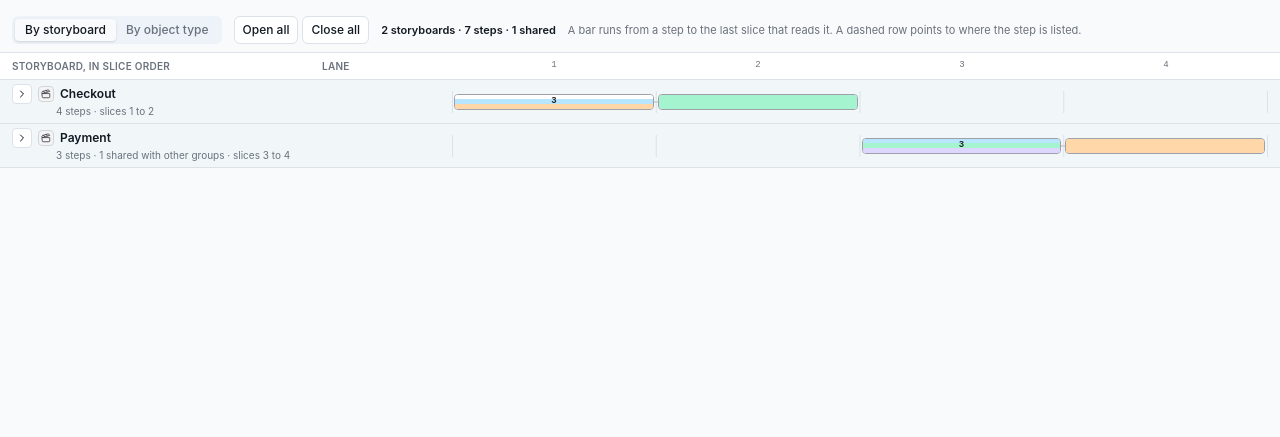
Scenario: WaterfallBoard › groups by lane and kind and draws cables between the groups
Click the button "By object type": x=167, y=30 [116,19,218,41]
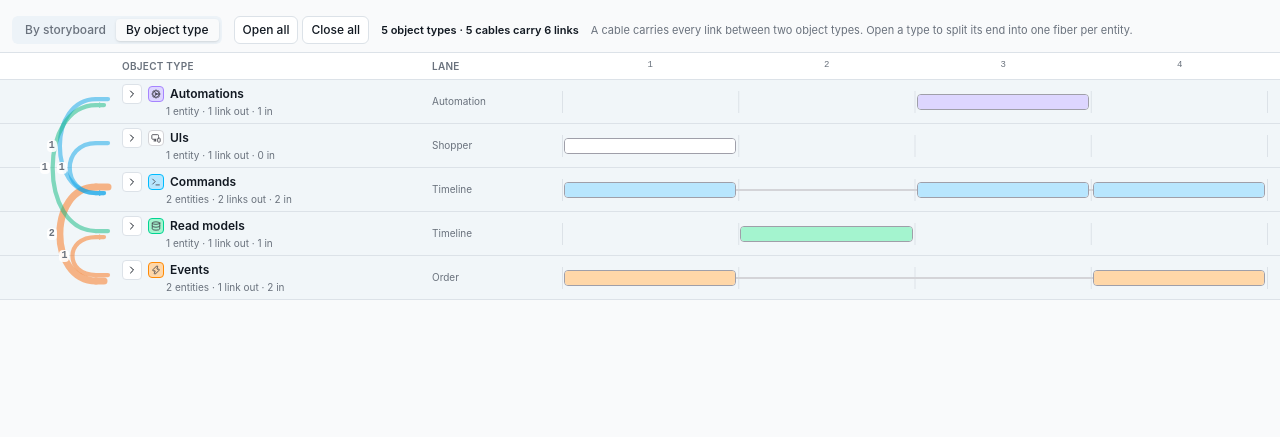
Result: the button "Commands" is shown at [170,173,236,191]
Result: the button "Read models" is shown at [170,217,245,235]
Result: the button named "2 links from Commands (Timeline) to Events (Order)" reads "2"
# A cable's count opens both of its ends.
Click the button named "2 links from Commands (Timeline) to Events (Order)": x=52, y=234 [47,228,57,240]
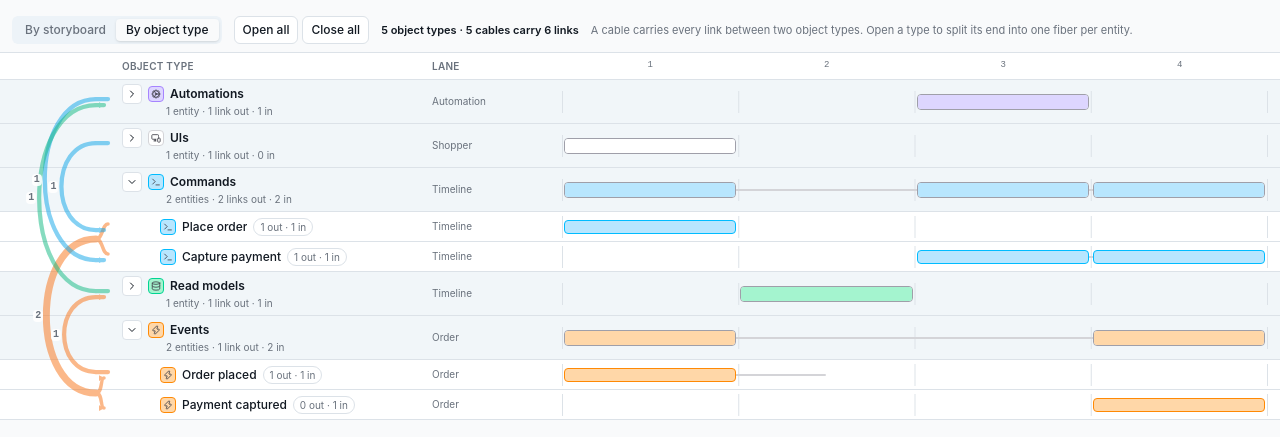
Result: the button named "Close Commands" is shown at [122,172,142,192]
Result: the button named "Close Events" is shown at [122,320,142,340]
Result: the 2nd text "1 out · 1 in" is shown at [287,248,347,266]
